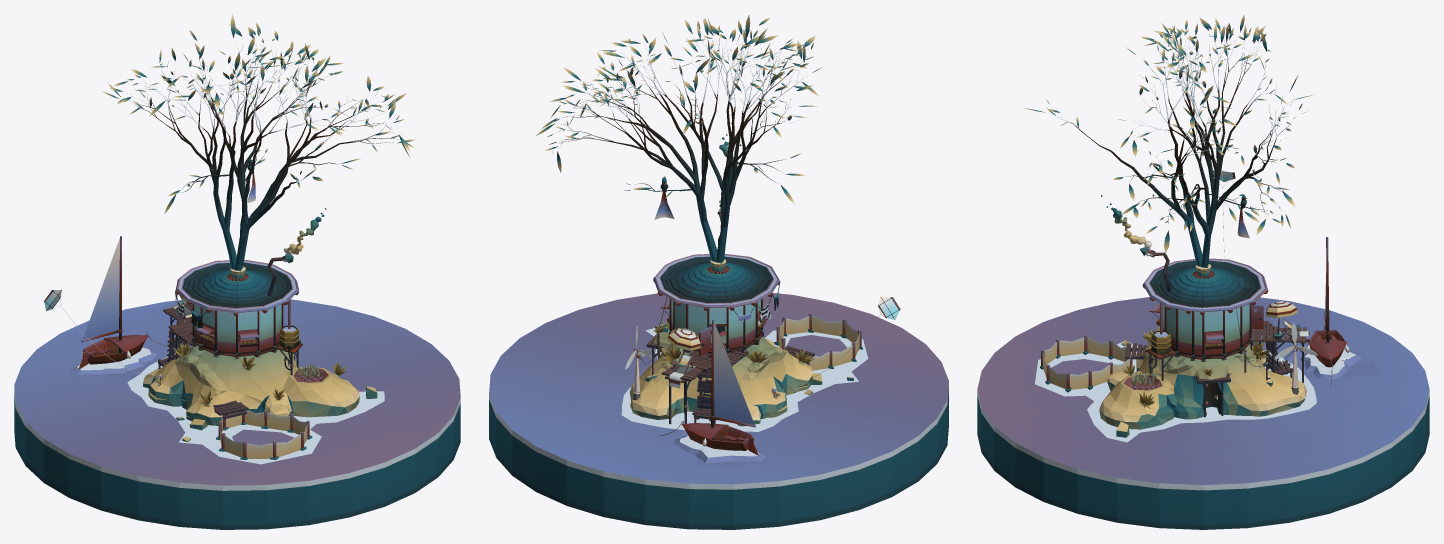
Rendered from island.FBX.
The picture shows the model from 3 angles, left to right: view 1: azimuth 30°, elevation 25°; view 2: azimuth 150°, elevation 25°; view 3: azimuth 270°, elevation 25°; orthographic projection. The views are drawn at different scales.
Visible parts, largest first — view 1: Circle.003, tree, Sphere.002, Plane.007, Circle, Plane, Plane.005, Sphere.001, Plane.008, Plane.029, Plane.018, Sphere.004; view 2: Circle.003, tree, Sphere.002, Plane.007, Plane, Circle, Plane.005, Plane.008, Sphere.001, Plane.029, Plane.018, Sphere.004 (+1 smaller); view 3: Circle.003, tree, Sphere.002, Plane.007, Circle, Plane.005, Sphere.001, Plane.008, Plane, Plane.018, Plane.029, Sphere.004.
Part boxes in pixels (x1,y1,x2,y2): Circle.003: (14,299,460,529); tree: (102,14,415,337); Sphere.002: (143,337,377,442); Plane.007: (175,259,299,312); Circle: (127,353,384,464); Plane: (81,236,148,364); Plane.005: (194,280,281,354); Sphere.001: (220,410,307,458); Plane.008: (158,304,300,419); Plane.029: (70,347,157,374); Plane.018: (175,274,298,356); Sphere.004: (216,406,312,459); Circle.003: (489,293,948,529); tree: (536,15,822,333); Sphere.002: (629,322,853,426); Plane.007: (653,254,779,307); Plane: (681,319,755,450); Circle: (621,328,868,431); Plane.005: (671,272,760,350); Plane.008: (646,326,814,421); Sphere.001: (778,315,859,370); Plane.029: (674,436,765,463); Plane.018: (653,266,780,352); Sphere.004: (774,313,862,368); Circle.003: (977,297,1429,529); tree: (1022,14,1314,278); Sphere.002: (1099,336,1306,437); Plane.007: (1143,258,1267,312); Circle: (1035,340,1316,442); Plane.005: (1162,277,1249,356); Sphere.001: (1043,337,1130,389); Plane.008: (1125,321,1309,417); Plane: (1308,237,1346,367); Plane.018: (1142,271,1268,359); Plane.029: (1299,348,1362,379); Sphere.004: (1040,335,1132,392).
Bounding box in the file's own units: 8675 × 8526 × 8675.
1 material, 1 textured.
